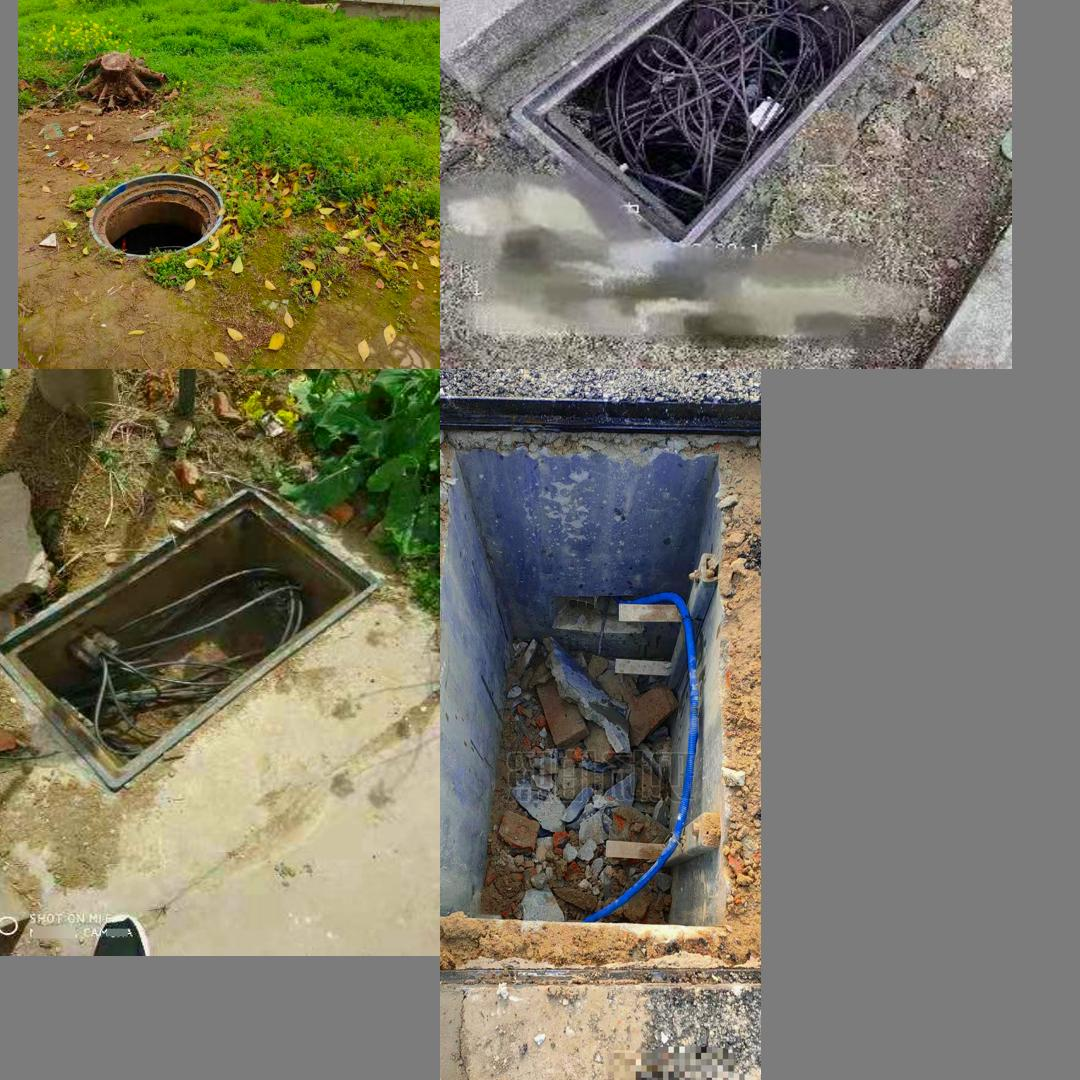lose: (440, 409, 755, 1002), (0, 486, 376, 792), (493, 0, 936, 252), (91, 172, 226, 260)
